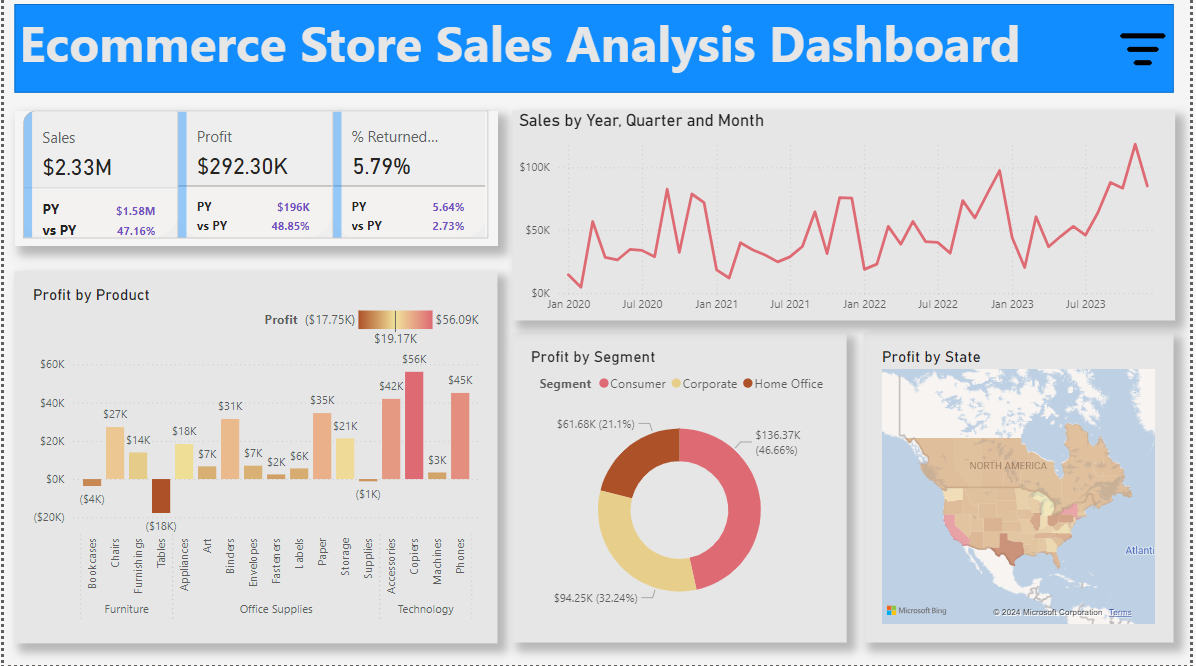

The dashboard page shown, as its layout file describes it:
{"tool":"powerbi","page":{"name":"Page 1","canvas":[1280,720],"ordinal":0},"visuals":[{"type":"shape","box":[11.4,5.7,1251.4,95.7],"z":0},{"type":"cardVisual","fields":{"Data":["Key_matrics.Sales","Key_matrics.Profit","Key_matrics.% Returned Orders"]},"box":[11.7,121.7,521.7,146.7],"z":1000},{"type":"clusteredColumnChart","title":"Profit by Product","fields":{"Y":["Key_matrics.Profit"],"Category":["Orders.Category","Orders.Sub-Category"]},"box":[11.6,294,521.1,401.7],"z":2000},{"type":"filledMap","title":"Profit by State","fields":{"Category":["Orders.State/Province"]},"box":[928.2,360.4,334.6,334.6],"z":3000},{"type":"donutChart","fields":{"Y":["Key_matrics.Profit"],"Category":["Orders.Segment"]},"box":[548.1,360.4,360.4,334.6],"z":4000},{"type":"lineChart","fields":{"Y":["Key_matrics.Sales"],"Category":["Date_Table.Date.Variation.Date Hierarchy.Year","Date_Table.Date.Variation.Date Hierarchy.Quarter","Date_Table.Date.Variation.Date Hierarchy.Month"]},"box":[548.3,121.7,715,226.7],"z":5000},{"type":"textbox","box":[12.1,6.1,1105.4,95.4],"z":6000},{"type":"image","box":[1195,21,68,68],"z":7000}]}

Visuals, with their boxes in screenshot pixels (x1, y1, x2, y2), scaled from the page's 1280x720 canvas onto the 1196x666 screenshot:
shape: left=11, top=5, right=1180, bottom=94
cardVisual - Key_matrics.Sales x Key_matrics.Profit: left=11, top=113, right=498, bottom=248
"Profit by Product" clusteredColumnChart: left=11, top=272, right=498, bottom=644
"Profit by State" filledMap: left=867, top=333, right=1180, bottom=643
donutChart - Key_matrics.Profit x Orders.Segment: left=512, top=333, right=849, bottom=643
lineChart - Key_matrics.Sales x Date_Table.Date.Variation.Date Hierarchy.Year: left=512, top=113, right=1180, bottom=322
textbox: left=11, top=6, right=1044, bottom=94
image: left=1117, top=19, right=1180, bottom=82
